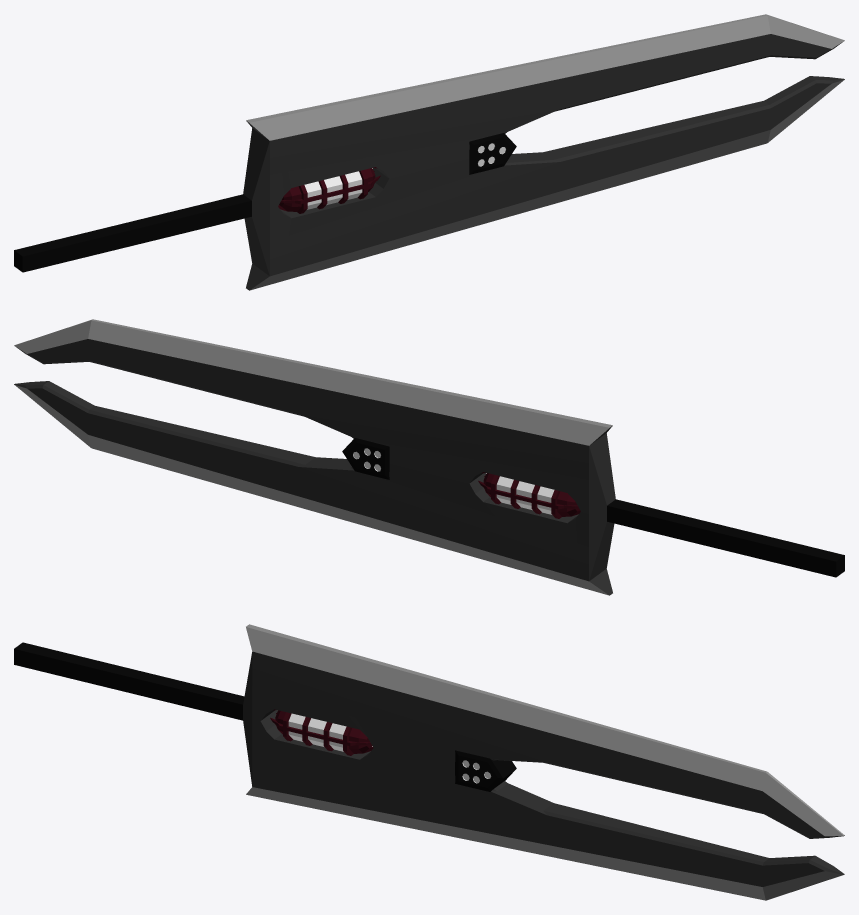
Rendered from TwoHandedSword 1.fbx.
The picture shows the model from 3 angles, top to bottom: view 1: azimuth 30°, elevation 25°; view 2: azimuth 150°, elevation 25°; view 3: azimuth 330°, elevation 25°; orthographic projection.
Visible parts, largest first — view 1: Cube.005, Cylinder.003, Cube.007; view 2: Cube.005, Cylinder.003, Cube.007; view 3: Cube.005, Cylinder.003, Cube.007.
Part boxes in pixels (x1,y1,x2,y2): Cube.005: [14, 14, 844, 290]; Cylinder.003: [278, 167, 380, 213]; Cube.007: [469, 133, 516, 174]; Cube.005: [14, 319, 844, 595]; Cylinder.003: [478, 472, 580, 518]; Cube.007: [342, 438, 389, 479]; Cube.005: [14, 624, 844, 900]; Cylinder.003: [270, 709, 373, 755]; Cube.007: [455, 750, 516, 791].
Bounding box in the file's own units: 1082 × 210 × 47.25.
